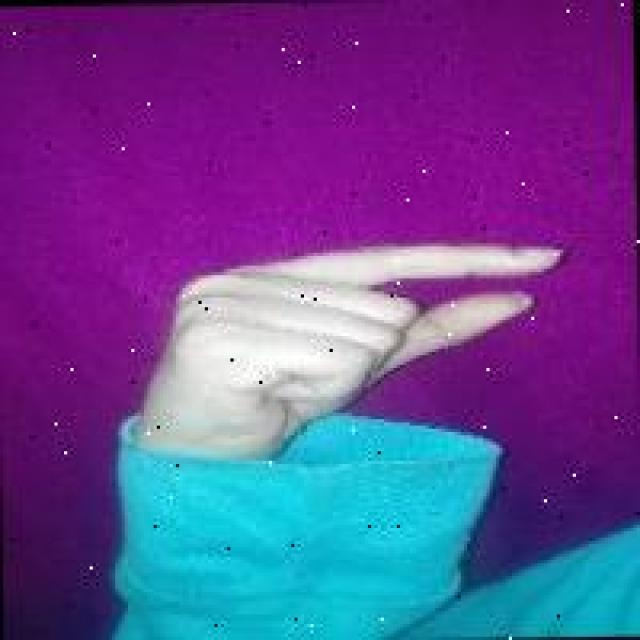G: (142, 234, 578, 435)
